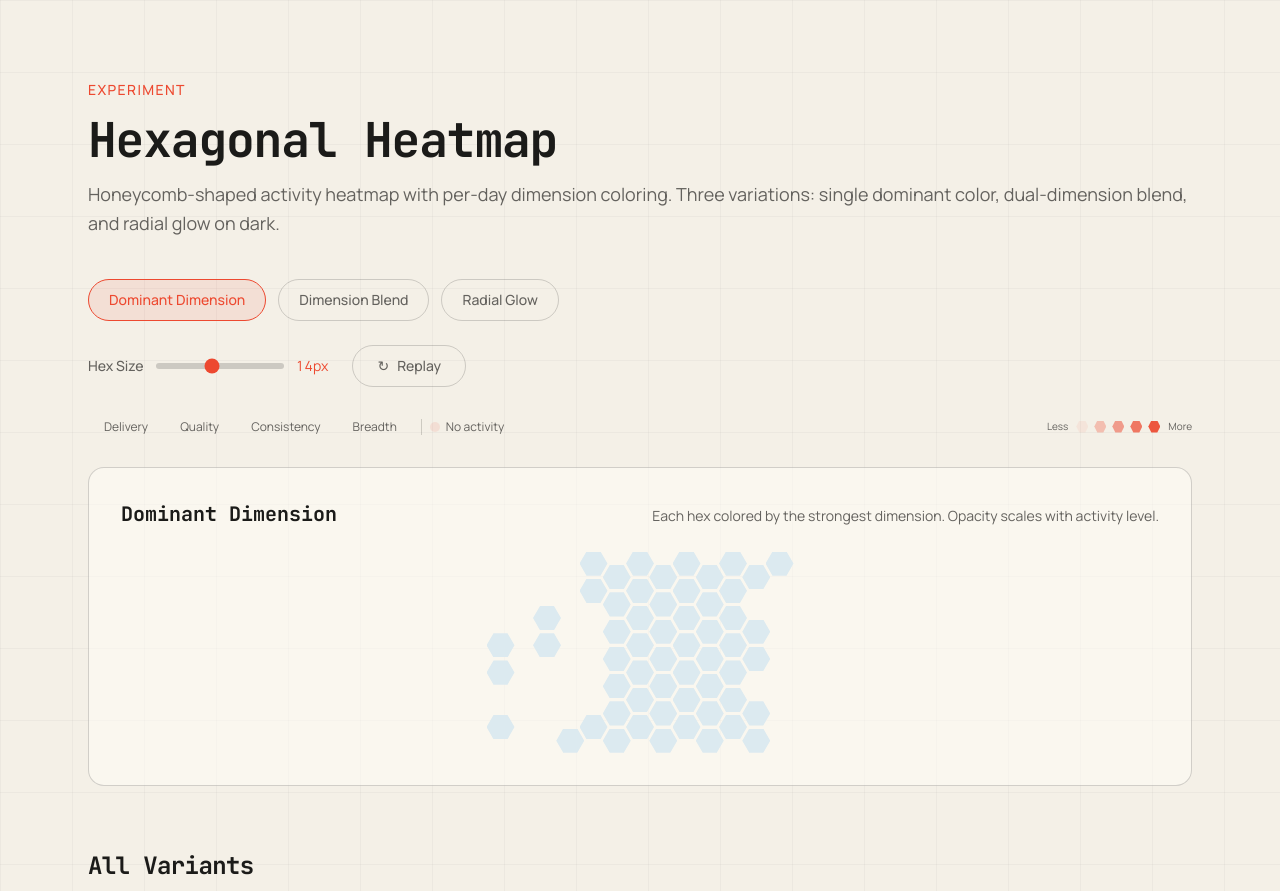
HexmapExperimentPage — render behavior › updates the hex size from the slider
The image size is (1280, 891).
Set the slider labelled "Hex Size" to "20": (260, 366) [156,362,284,368]
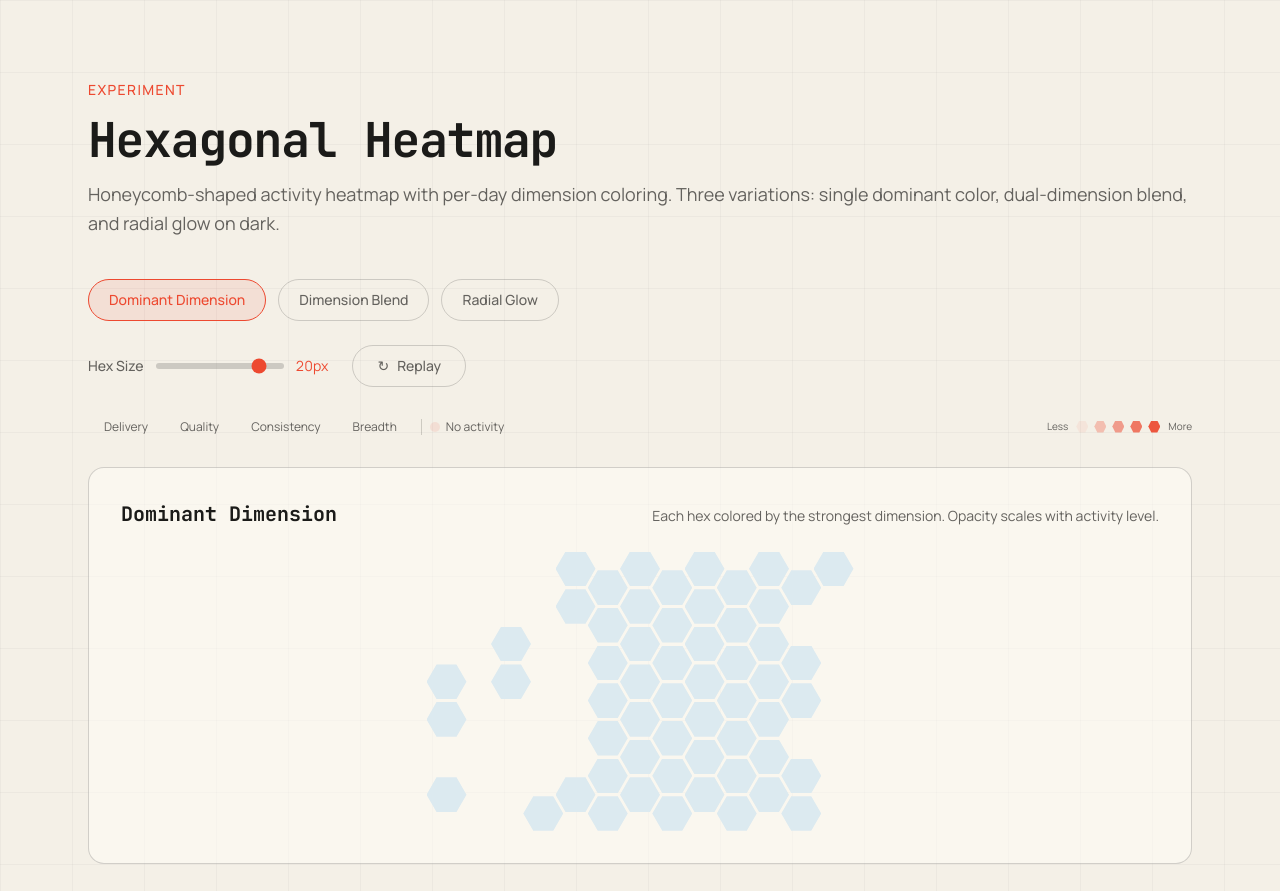
Result: the text "20px" is shown at [296,356,328,376]
